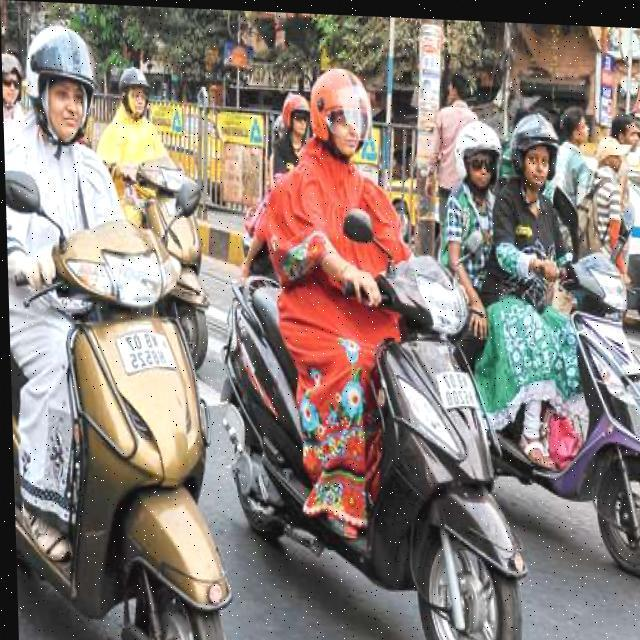Helmet: (17, 18, 102, 158), (298, 55, 379, 163), (502, 101, 568, 190)
